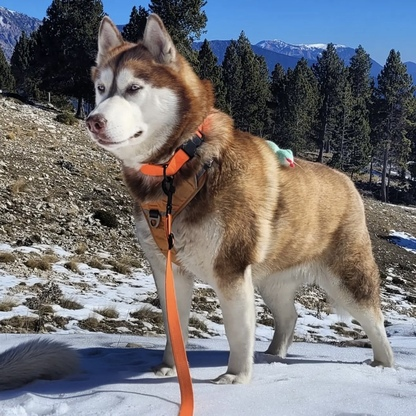husky: (81, 10, 401, 389)
